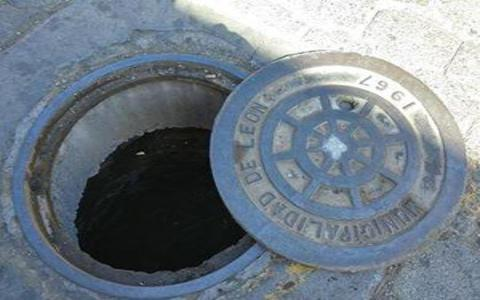open manhole: (6, 51, 270, 279)
